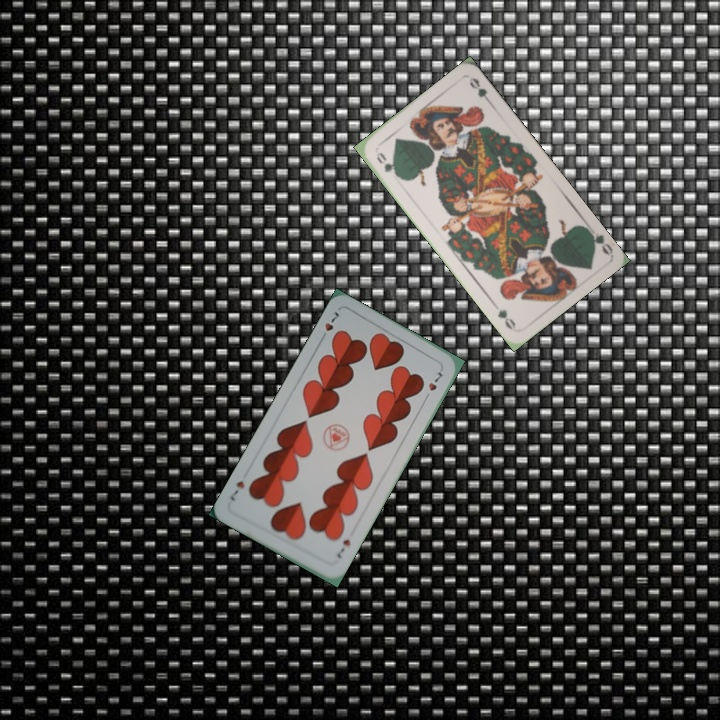GO: (581, 223, 616, 257), (372, 148, 403, 180)
H7: (316, 307, 344, 343), (333, 535, 353, 561)
